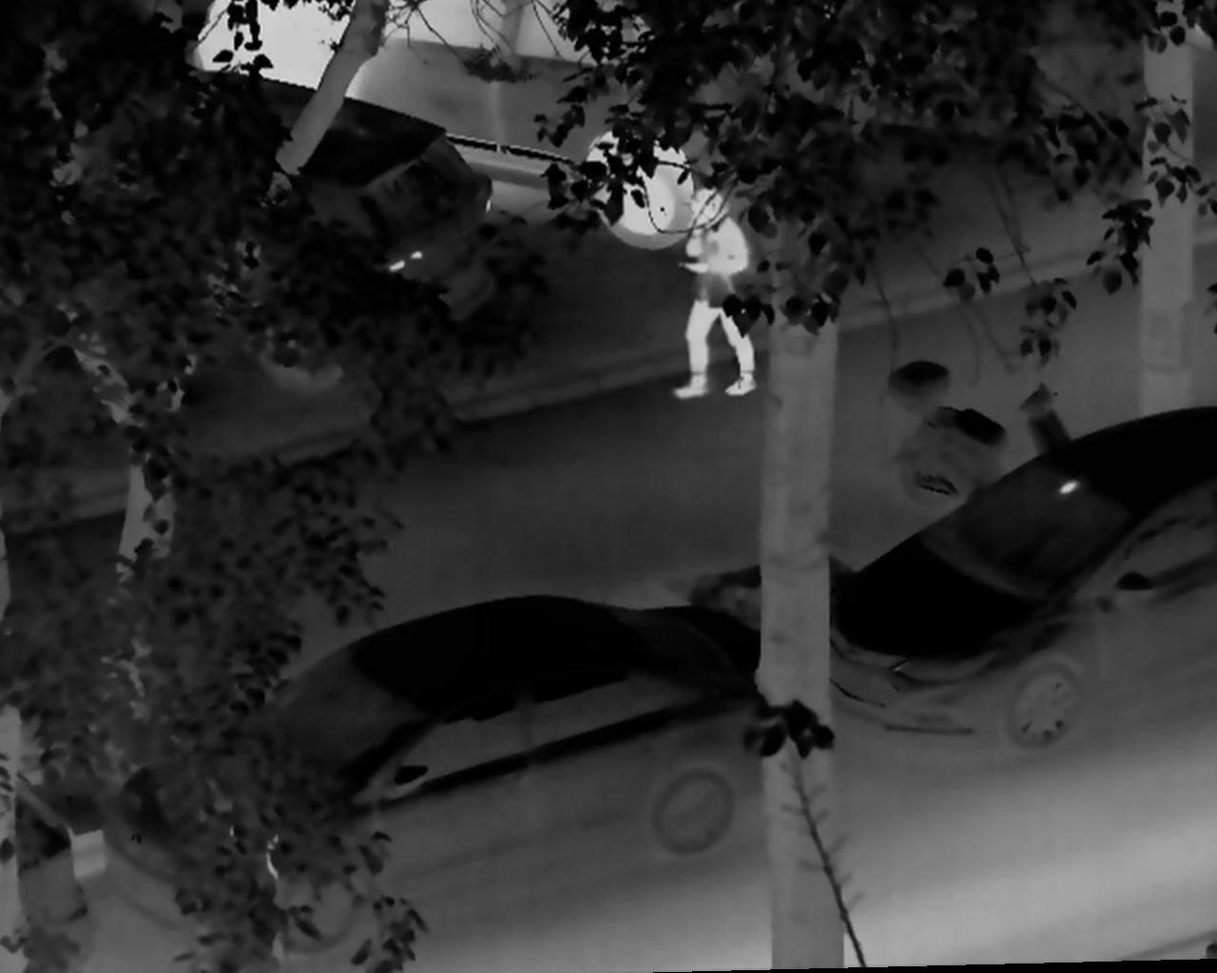person: (666, 185, 767, 406)
